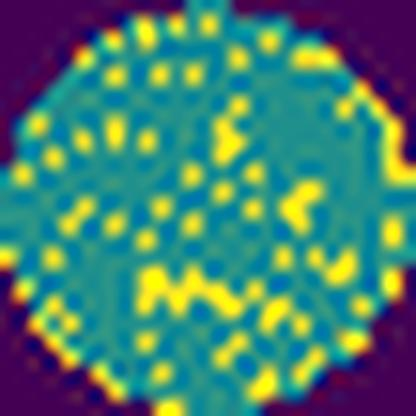Scratch: (131, 258, 268, 322)
